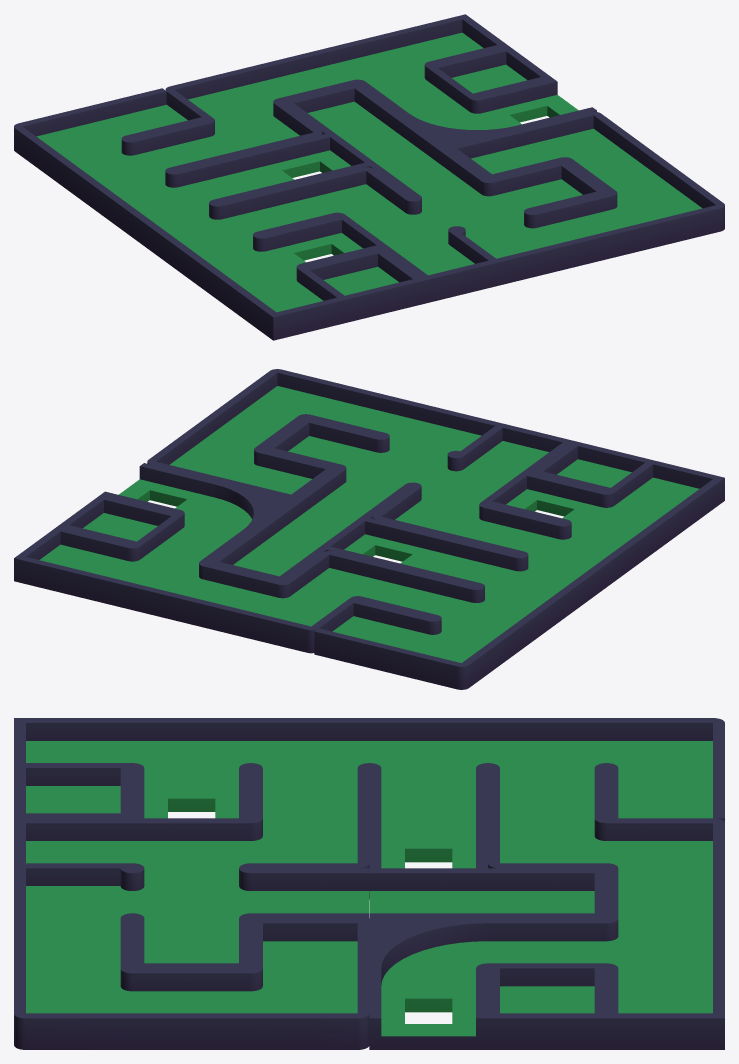
File: level_2.glb
3 renders of one model, top to bottom at view 1: azimuth 30°, elevation 25°; view 2: azimuth 150°, elevation 25°; view 3: azimuth 270°, elevation 25°, orthographic. The views are drawn at different scales.
Parts seen in each view (by area): view 1: mergedBlocks(Clone); view 2: mergedBlocks(Clone); view 3: mergedBlocks(Clone).
Boxes of the visible parts, bbox=[...] form: mergedBlocks(Clone): bbox=[14, 14, 724, 340]; mergedBlocks(Clone): bbox=[14, 369, 724, 689]; mergedBlocks(Clone): bbox=[14, 718, 724, 1049].
Size of the model in its own units: 6 by 0.2933 by 6.
1 material, 1 textured.
